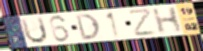1: (105, 10, 121, 40)
6: (49, 14, 71, 44)
D: (74, 13, 102, 41)
H: (151, 6, 184, 36)
U: (19, 16, 50, 45)
Z: (127, 8, 158, 38)
